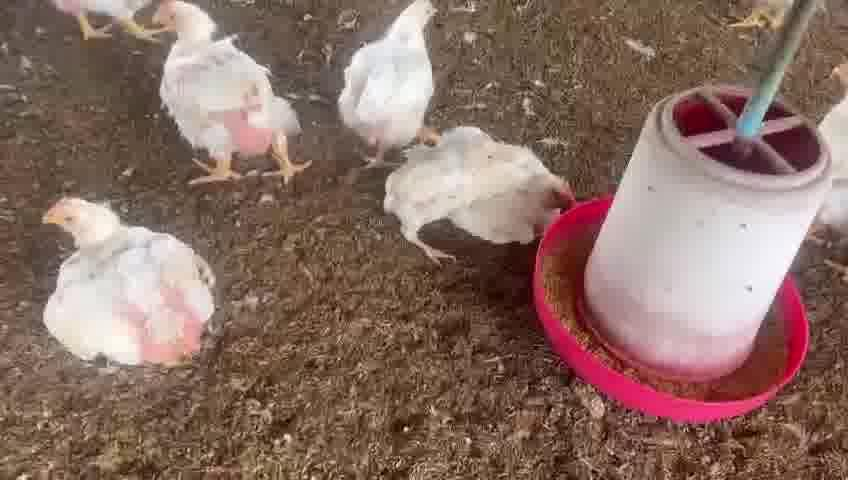AbNormal: (405, 114, 568, 256)
Normal: (38, 183, 214, 370), (149, 5, 308, 184), (336, 1, 453, 158)
